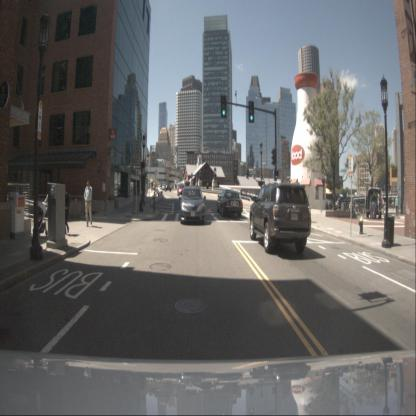human-pedestrian-adult: (60, 185, 71, 235), (84, 180, 92, 227), (370, 191, 376, 219), (349, 198, 357, 219), (395, 194, 400, 218), (376, 191, 380, 219), (206, 182, 209, 198), (195, 181, 198, 194), (174, 178, 177, 190), (388, 198, 391, 209), (154, 181, 156, 195), (382, 198, 384, 210), (151, 180, 153, 192), (161, 181, 162, 189)
vehicle-car: (250, 183, 312, 254), (180, 186, 205, 224), (216, 190, 243, 218), (365, 186, 383, 218), (177, 184, 185, 196), (164, 183, 172, 192)
